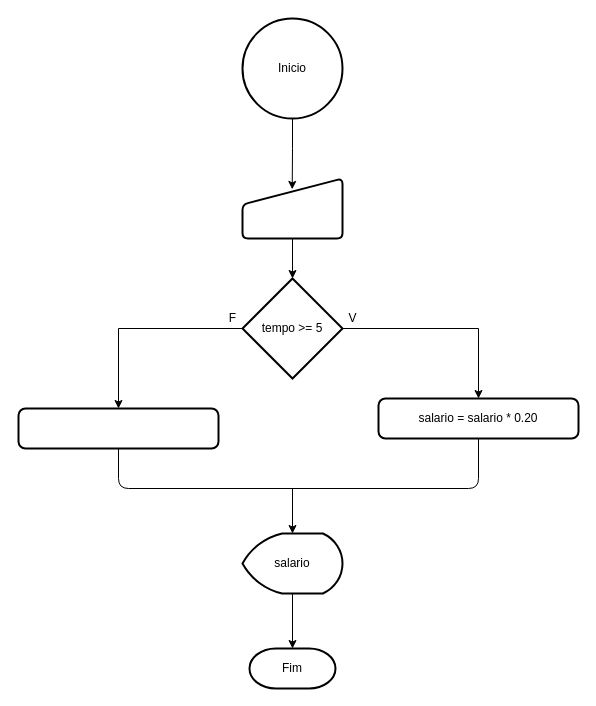
The diagram is 596 pixels wide and 706 high, and some of its shapes have lost their labels. Each missing label, with the centre of its shape:
salario = salario * 0.10: the point at 118,428
salario, tempo: the point at 292,208
